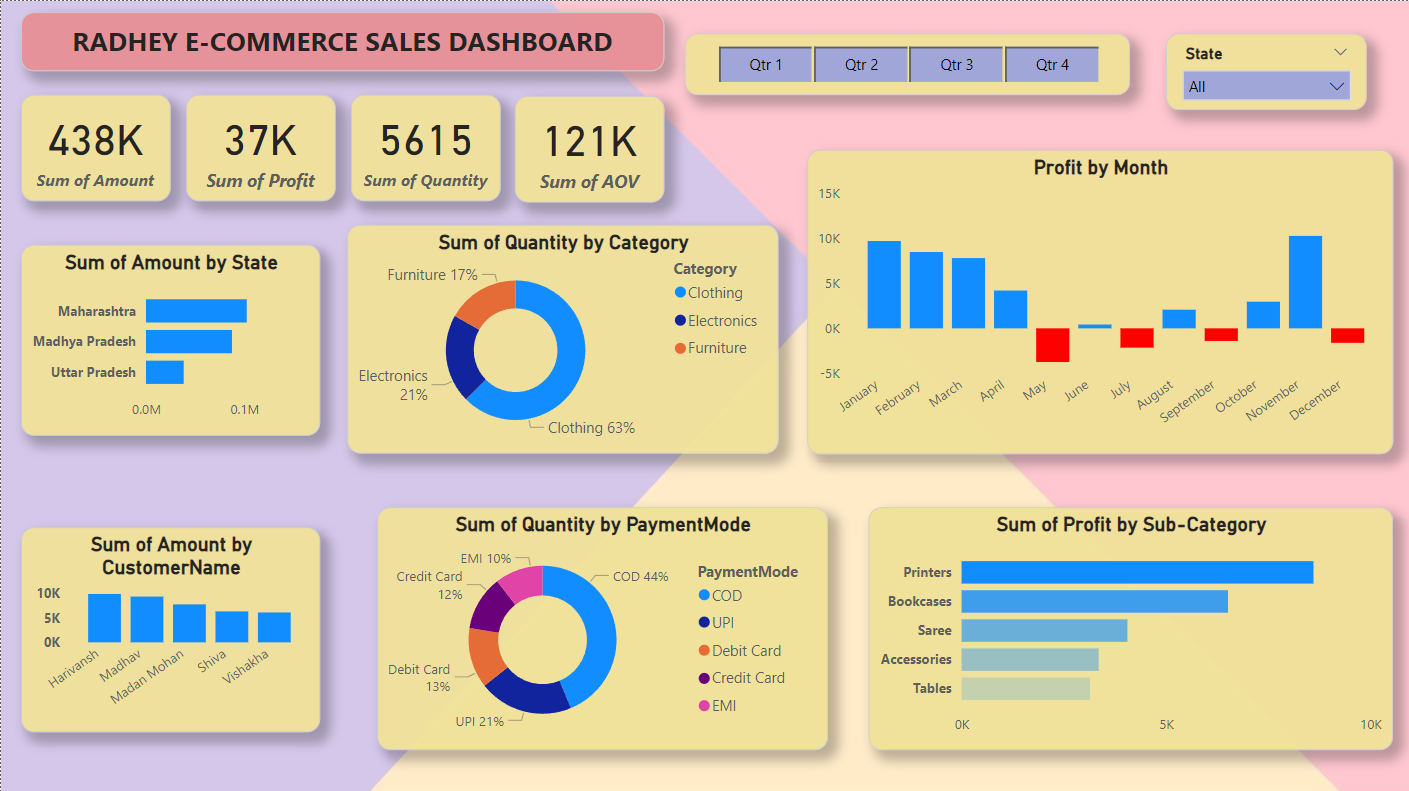

Layout of this report page (visuals, bound fields, positions):
{"tool":"powerbi","page":{"name":"Radhey E-commerce Sales Dashboard","canvas":[1280,720],"ordinal":0},"visuals":[{"type":"textbox","box":[18.6,10.5,584.9,53.5],"z":0},{"type":"columnChart","title":"Profit by Month","fields":{"Y":["Details.Profit"],"Category":["Orders.Order Date.Variation.Date Hierarchy.Month"]},"box":[732.6,134.9,532.6,276.7],"z":1000},{"type":"barChart","fields":{"Category":["Details.Sub-Category"],"Y":["Details.Profit"]},"box":[788.4,460.5,476.7,220.9],"z":2000},{"type":"donutChart","fields":{"Category":["Details.Category"],"Y":["Details.Quantity"]},"box":[315.1,203.5,391.9,208.1],"z":3000},{"type":"donutChart","fields":{"Y":["Details.Quantity"],"Category":["Details.PaymentMode"]},"box":[341.9,460.5,409.3,220.9],"z":4000},{"type":"card","fields":{"Values":["Details.Amount"]},"box":[18.6,84.9,136,96.5],"z":5000},{"type":"card","fields":{"Values":["Details.Profit"]},"box":[168.6,84.9,136,96.5],"z":6000},{"type":"card","fields":{"Values":["Details.Quantity"]},"box":[318.6,84.9,136,96.5],"z":7000},{"type":"card","fields":{"Values":["Details.AOV"]},"box":[467.4,86,136,96.5],"z":8000},{"type":"barChart","fields":{"Category":["Orders.State"],"Y":["Details.Amount"]},"box":[18.6,222.1,272.1,173.3],"z":9000},{"type":"columnChart","fields":{"Category":["Orders.CustomerName"],"Y":["Details.Amount"]},"box":[18.6,477.9,272.1,186],"z":10000},{"type":"slicer","fields":{"Values":["Orders.Order Date.Variation.Date Hierarchy.Quarter"]},"box":[622.1,29.1,404.7,55.8],"z":11000},{"type":"slicer","fields":{"Values":["Orders.State"]},"box":[1059.3,29.1,182.6,69.8],"z":12000}]}

Visuals, with their boxes in screenshot pixels (x1, y1, x2, y2), scaled from the page's 1280x720 canvas onto the 1409x791 screenshot:
textbox: x1=20 y1=12 x2=664 y2=70
"Profit by Month" columnChart: x1=806 y1=148 x2=1393 y2=452
barChart - Details.Sub-Category x Details.Profit: x1=868 y1=506 x2=1393 y2=749
donutChart - Details.Category x Details.Quantity: x1=347 y1=224 x2=778 y2=452
donutChart - Details.Quantity x Details.PaymentMode: x1=376 y1=506 x2=827 y2=749
card - Details.Amount: x1=20 y1=93 x2=170 y2=199
card - Details.Profit: x1=186 y1=93 x2=335 y2=199
card - Details.Quantity: x1=351 y1=93 x2=500 y2=199
card - Details.AOV: x1=515 y1=94 x2=664 y2=200
barChart - Orders.State x Details.Amount: x1=20 y1=244 x2=320 y2=434
columnChart - Orders.CustomerName x Details.Amount: x1=20 y1=525 x2=320 y2=729
slicer - Orders.Order Date.Variation.Date Hierarchy.Quarter: x1=685 y1=32 x2=1130 y2=93
slicer - Orders.State: x1=1166 y1=32 x2=1367 y2=109
